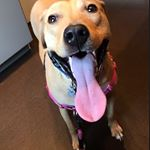puppy: (27, 1, 131, 150)
